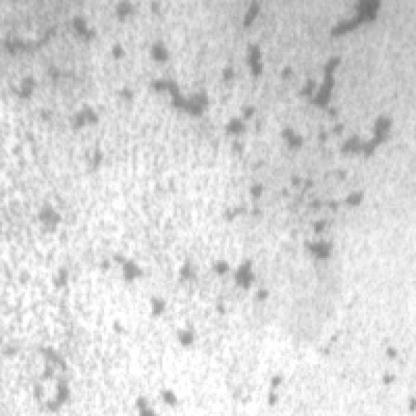pitted_surface: (15, 0, 395, 378)
